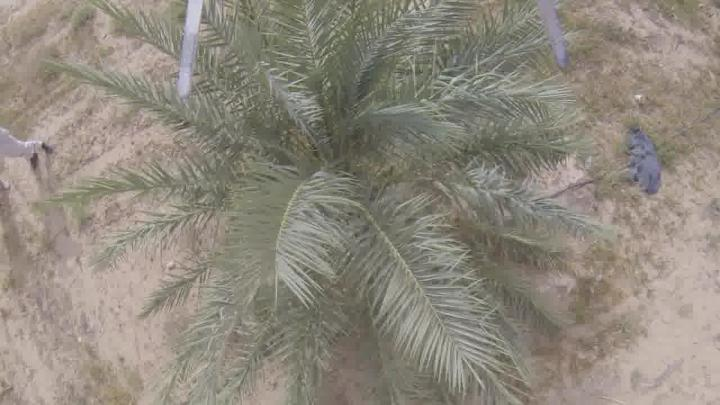Date-Palm-Crown: (210, 0, 502, 312)
